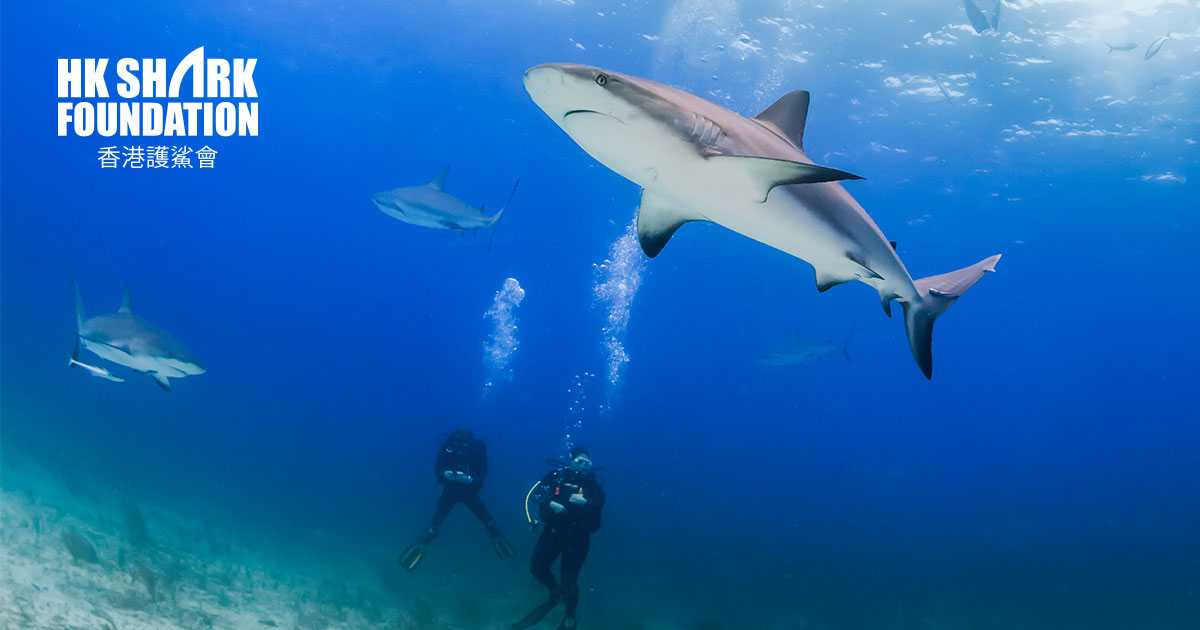shark: (512, 38, 1018, 395), (51, 278, 232, 405), (361, 165, 546, 262)
